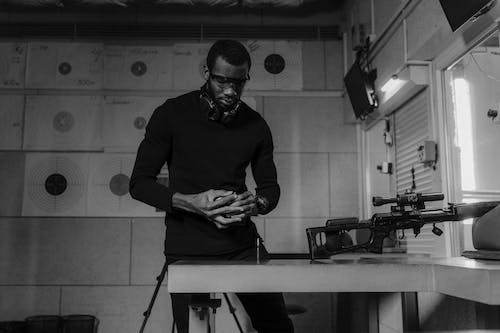gun: (303, 190, 500, 261)
